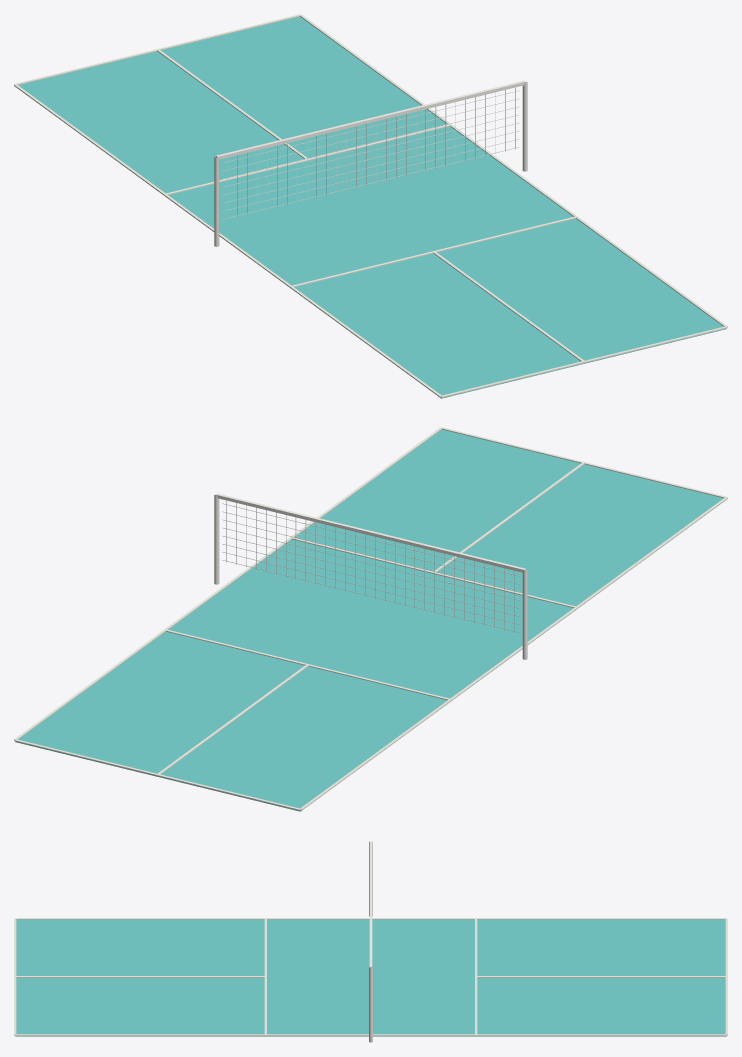
The model's file is court.glb.
3 renders of one model, top to bottom at view 1: azimuth 30°, elevation 25°; view 2: azimuth 150°, elevation 25°; view 3: azimuth 270°, elevation 25°, orthographic. The views are drawn at different scales.
Visible parts, largest first — view 1: court, sideline (×2), baseline (×4), net tape; view 2: court, sideline (×2), baseline (×4), net tape; view 3: court, sideline (×2), baseline (×4), service center (×2), net tape.
Part boxes in pixels (left/top/right/bottom): court: left=18, top=16, right=726, bottom=398; sideline (×2): left=14, top=14, right=727, bottom=397; baseline (×4): left=15, top=14, right=727, bottom=397; net tape: left=216, top=80, right=525, bottom=159; court: left=15, top=429, right=723, bottom=811; sideline (×2): left=14, top=427, right=727, bottom=810; baseline (×4): left=14, top=427, right=726, bottom=810; net tape: left=216, top=493, right=525, bottom=572; court: left=15, top=919, right=726, bottom=1036; sideline (×2): left=15, top=918, right=726, bottom=1036; baseline (×4): left=14, top=918, right=727, bottom=1035; service center (×2): left=15, top=976, right=726, bottom=977; net tape: left=369, top=841, right=372, bottom=967.
Size of the model in its own units: 5.68 by 1.55 by 13.45.
